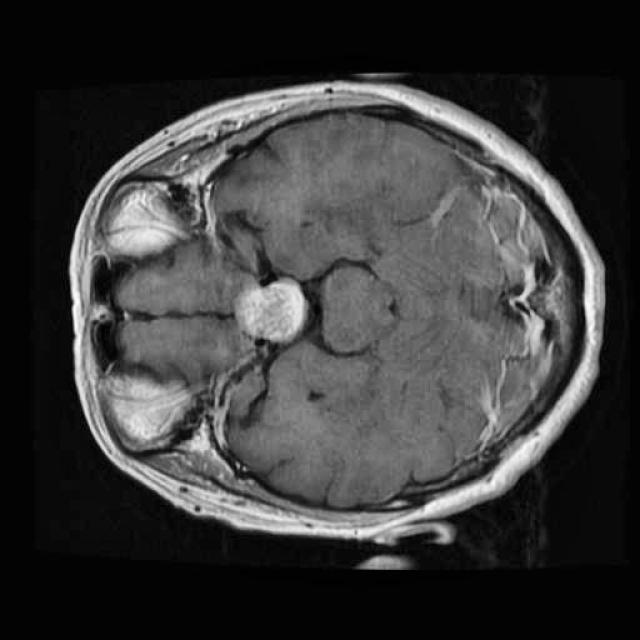Tumor: (228, 268, 314, 349)
